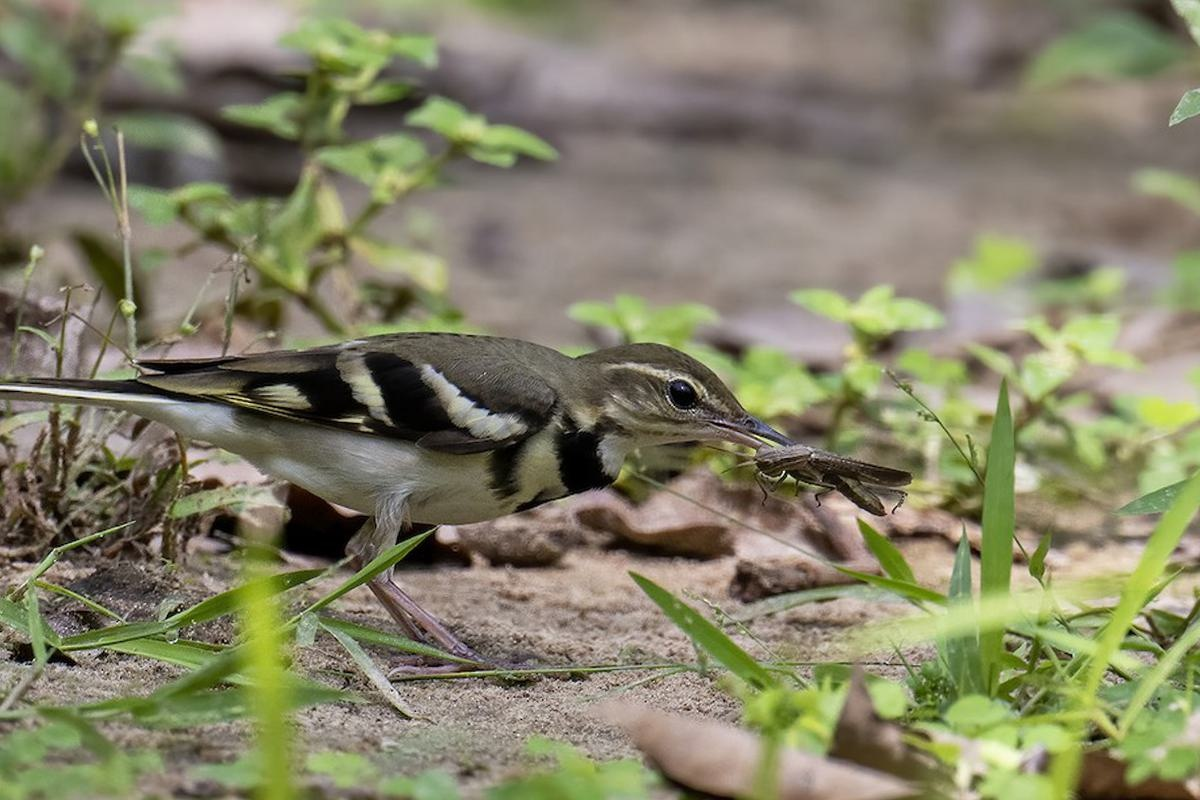wagtail: (47, 288, 887, 658)
